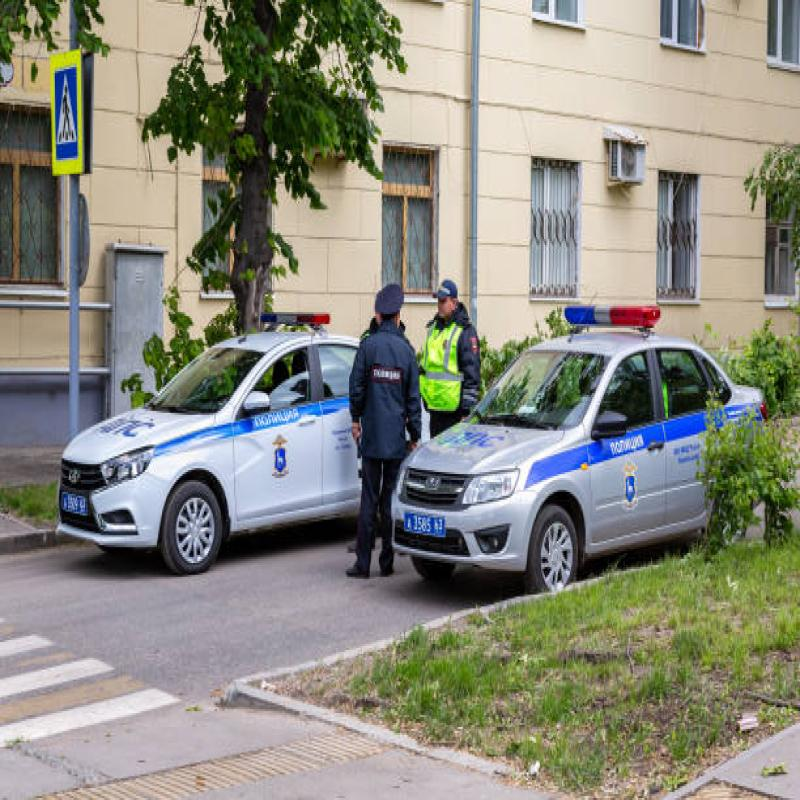AmbulanceSiren: (562, 290, 672, 336)
